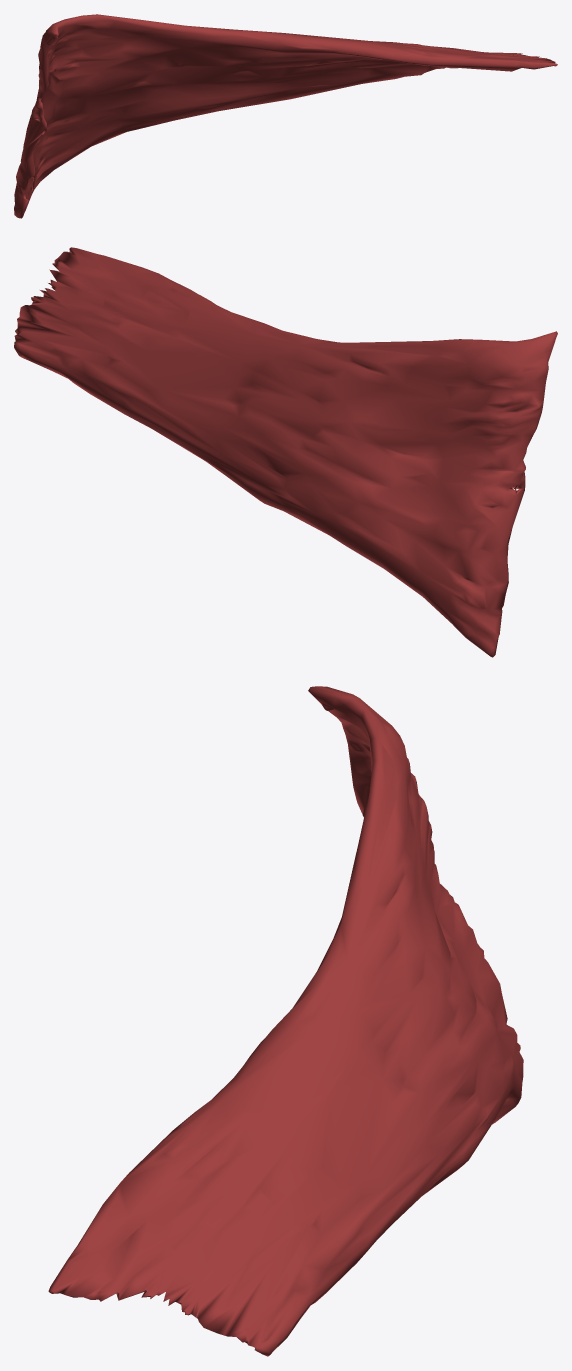
The model's file is transverse-part-of-trapezius-muscle-l.glb.
The picture shows the model from 3 angles, top to bottom: view 1: azimuth 30°, elevation 25°; view 2: azimuth 150°, elevation 25°; view 3: azimuth 270°, elevation 25°; orthographic projection. The views are drawn at different scales.
Visible parts, largest first — view 1: Transverse part of trapezius muscle.l; view 2: Transverse part of trapezius muscle.l; view 3: Transverse part of trapezius muscle.l.
Part boxes in pixels (x1,y1,x2,y2): Transverse part of trapezius muscle.l: [14, 14, 557, 218]; Transverse part of trapezius muscle.l: [14, 247, 557, 657]; Transverse part of trapezius muscle.l: [48, 686, 523, 1356].
Bounding box in the file's own units: 0.1723 × 0.0812 × 0.0801.
